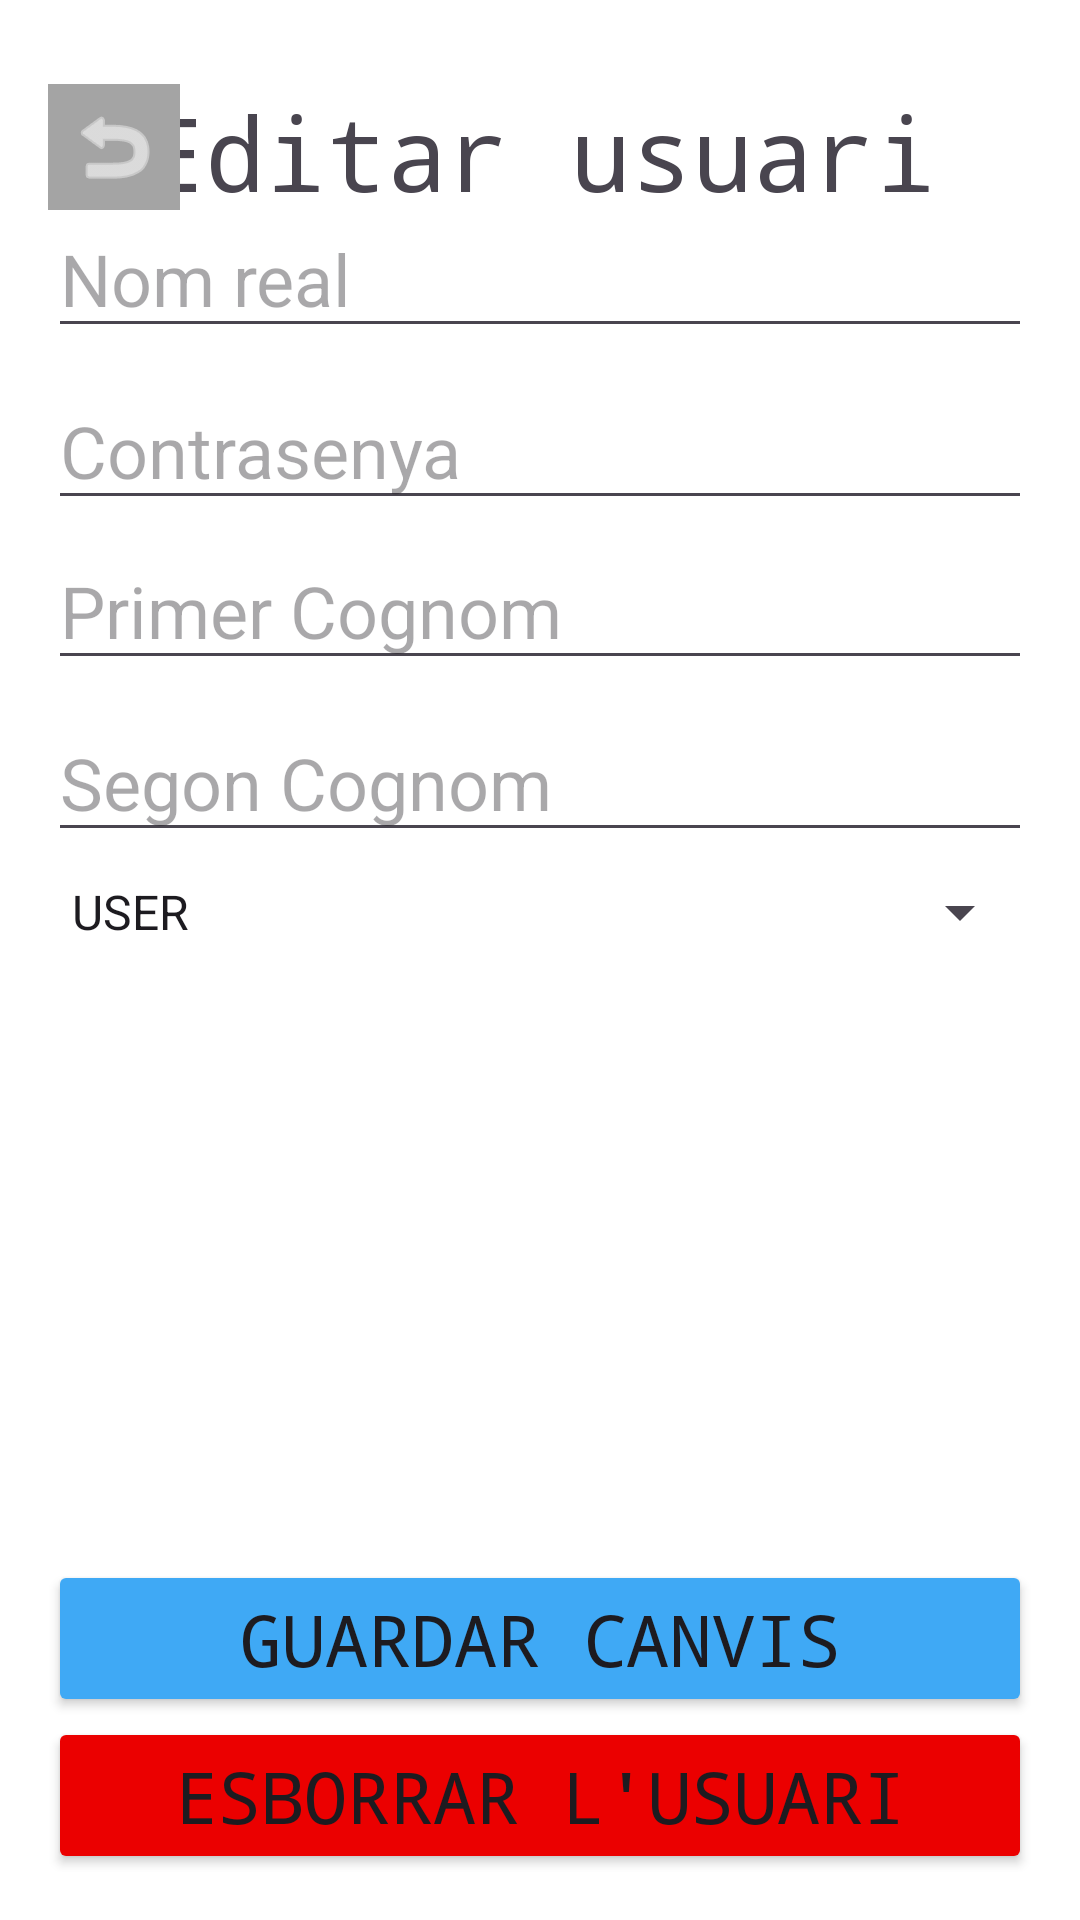

Icons on this 1080 × 1920 Android screen, each with the point to tap as (x,y):
revert: (114,147)
